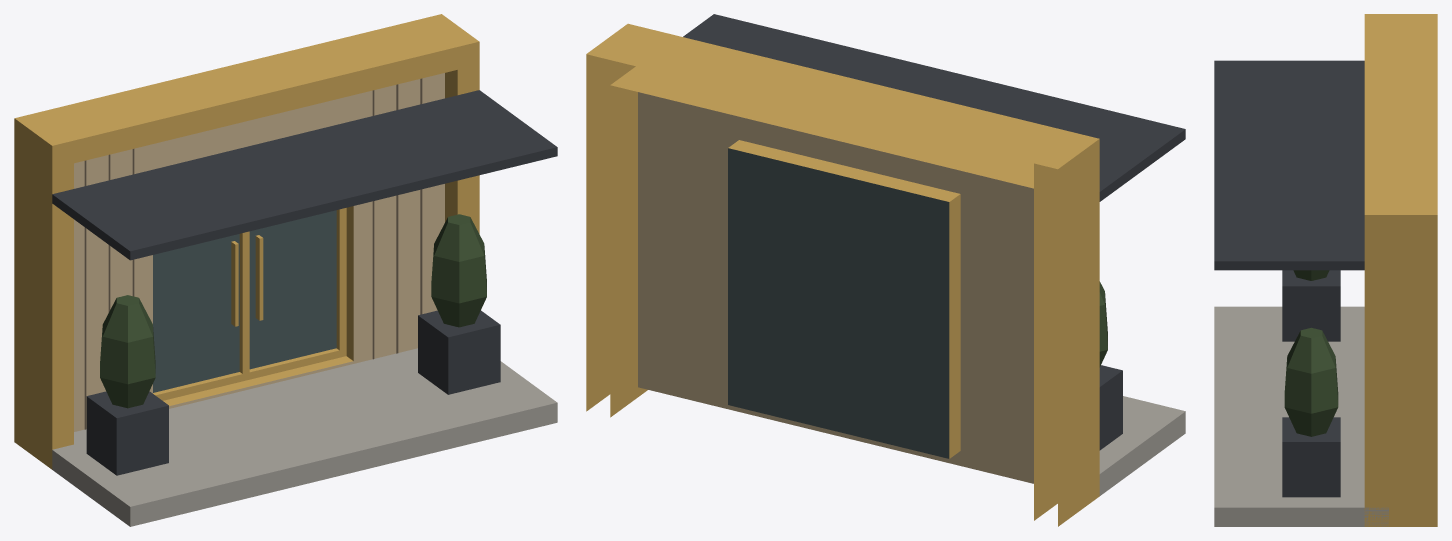
Rendered from entrance_close.fbx.
3 views of the same model, side by side, from view 1: azimuth 30°, elevation 25°; view 2: azimuth 150°, elevation 25°; view 3: azimuth 270°, elevation 25° (orthographic). The views are drawn at different scales.
Visible parts, largest first — view 1: a2019/750/entrance_close; view 2: a2019/750/entrance_close; view 3: a2019/750/entrance_close.
Boxes of the visible parts, <box> form: a2019/750/entrance_close: <box>14,14,557,526</box>; a2019/750/entrance_close: <box>586,14,1185,526</box>; a2019/750/entrance_close: <box>1214,14,1437,526</box>.
Size of the model in its own units: 4.9 by 3.55 by 2.3.
